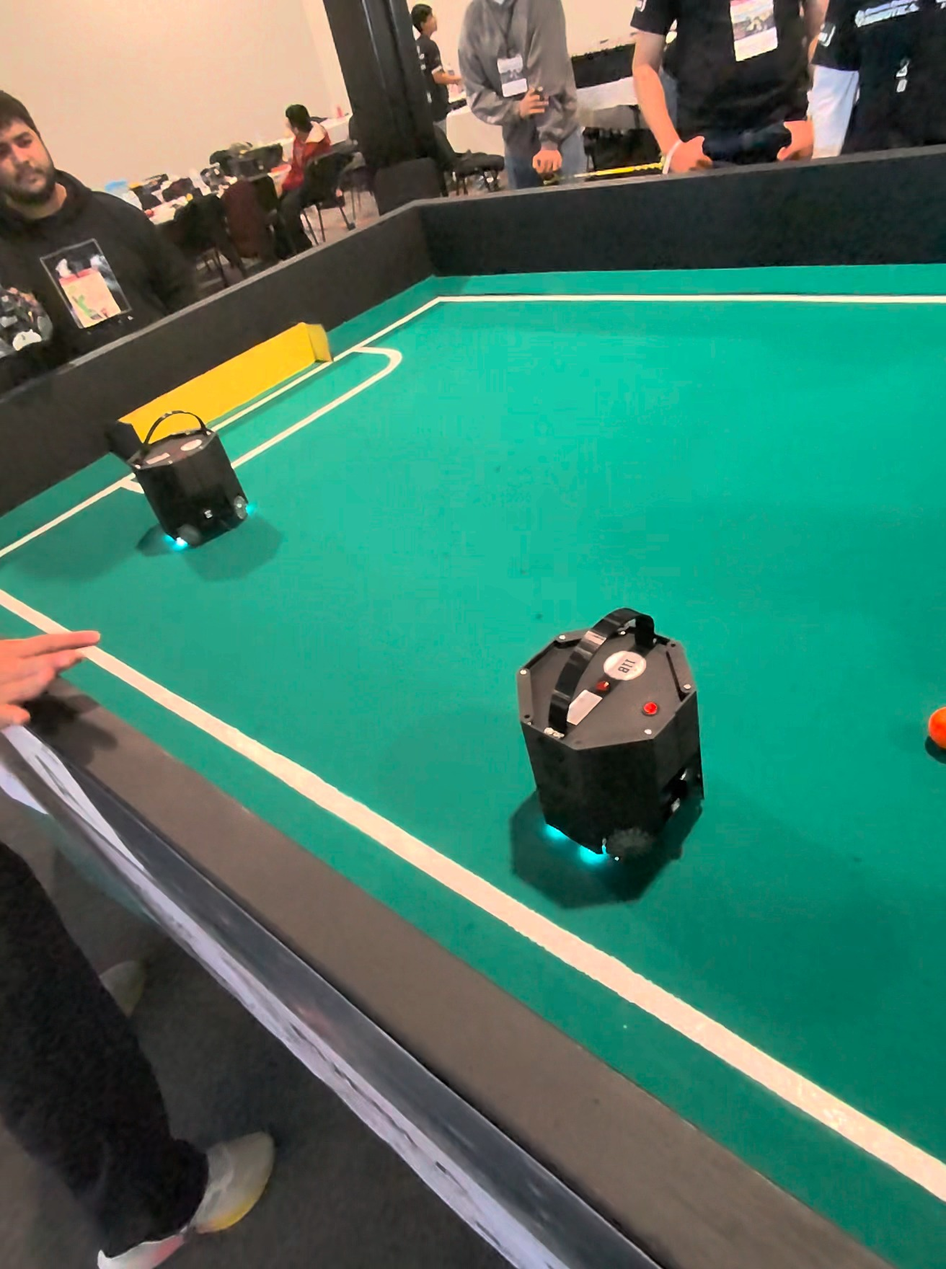Robot: (510, 592, 714, 914), (124, 398, 272, 571)
pelota: (928, 711, 946, 754)
